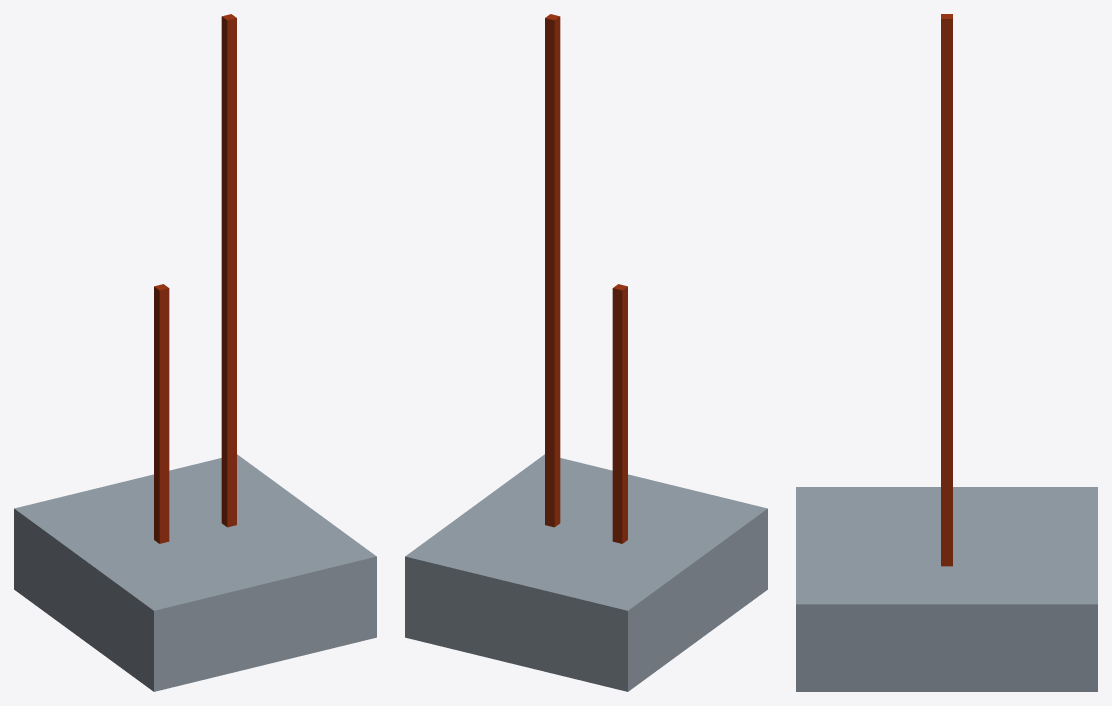
Rendered from antenna.obj.
The picture shows the model from 3 angles, left to right: view 1: azimuth 30°, elevation 25°; view 2: azimuth 150°, elevation 25°; view 3: azimuth 270°, elevation 25°; orthographic projection. The views are drawn at different scales.
Parts seen in each view (by area): view 1: 5dbf3dbe5f1e3f15fa9f1ecd_ID3; view 2: 5dbf3dbe5f1e3f15fa9f1ecd_ID3; view 3: 5dbf3dbe5f1e3f15fa9f1ecd_ID3.
Boxes of the visible parts, x1=… form: 5dbf3dbe5f1e3f15fa9f1ecd_ID3: x1=14, y1=14, x2=376, y2=691; 5dbf3dbe5f1e3f15fa9f1ecd_ID3: x1=405, y1=14, x2=767, y2=691; 5dbf3dbe5f1e3f15fa9f1ecd_ID3: x1=796, y1=14, x2=1097, y2=691.
Size of the model in its own units: 0.23 by 0.58 by 0.25.
